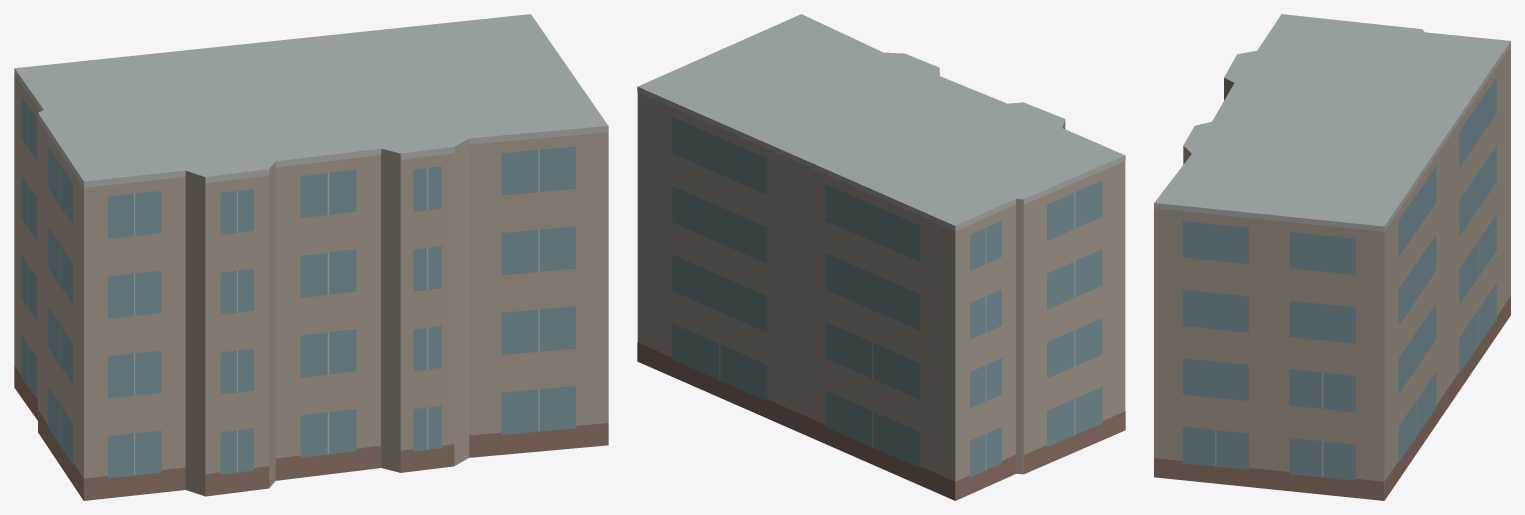
The model's file is survey-upis-32703939.glb.
3 views of the same model, side by side, from view 1: azimuth 30°, elevation 25°; view 2: azimuth 150°, elevation 25°; view 3: azimuth 270°, elevation 25° (orthographic). The views are drawn at different scales.
Parts seen in each view (by area): view 1: survey-upis-32703939.tmp; view 2: survey-upis-32703939.tmp; view 3: survey-upis-32703939.tmp.
Part boxes in pixels (x1,y1,x2,y2): survey-upis-32703939.tmp: (14, 14, 608, 500); survey-upis-32703939.tmp: (637, 14, 1125, 500); survey-upis-32703939.tmp: (1154, 14, 1510, 500).
Size of the model in its own units: 20.61 by 12.4 by 14.62.
